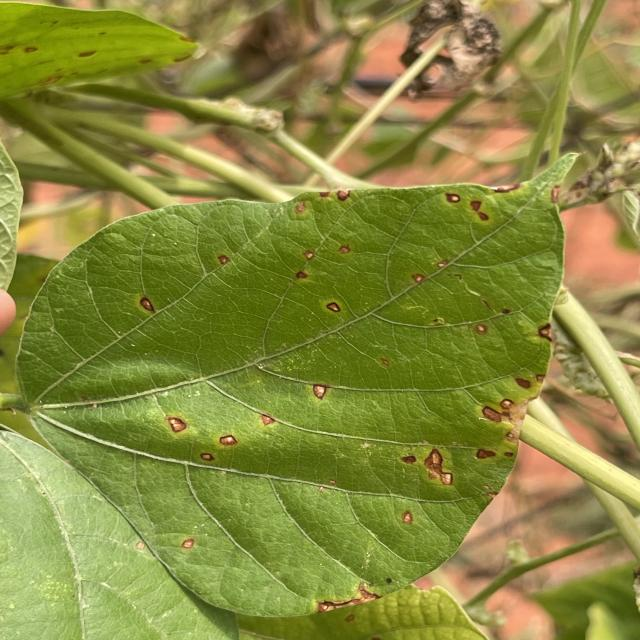Dolicos bean_cercospora leaf spot: (19, 161, 565, 618)
